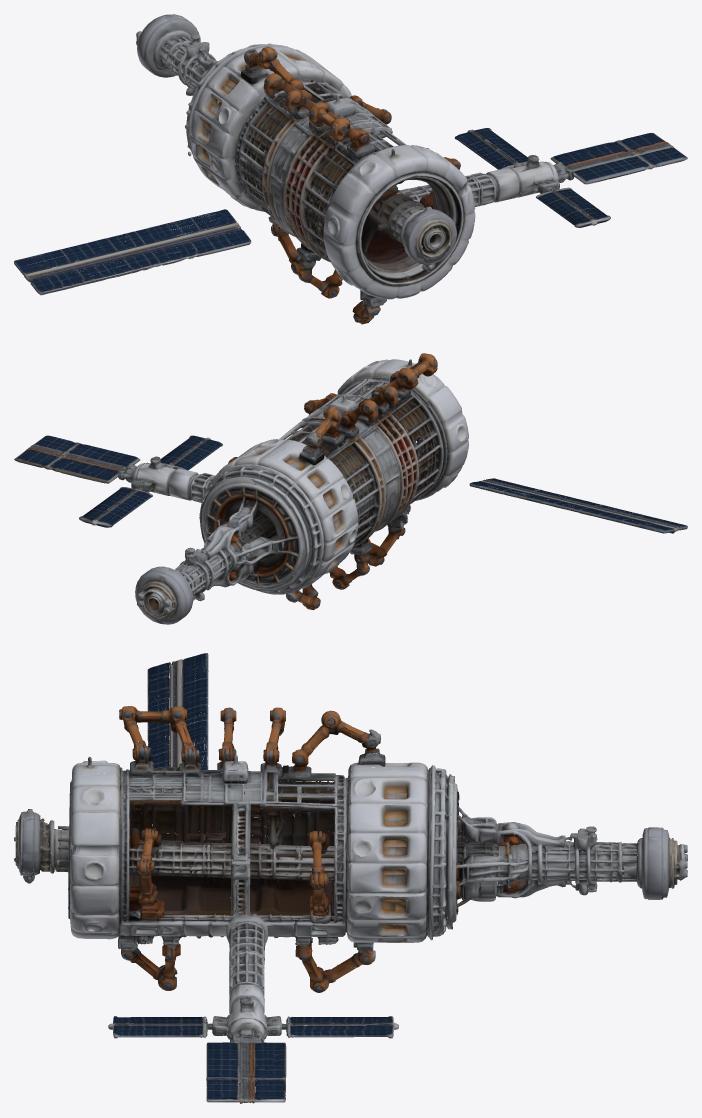
File: station_modular_opt.glb
3 renders of one model, top to bottom at view 1: azimuth 30°, elevation 25°; view 2: azimuth 150°, elevation 25°; view 3: azimuth 270°, elevation 25°, orthographic. The views are drawn at different scales.
Parts seen in each view (by area): view 1: world; view 2: world; view 3: world.
Part boxes in pixels (x1,y1,x2,y2): world: (14,14,687,324); world: (14,353,687,624); world: (14,653,687,1103).
Size of the model in its own units: 1 by 0.3259 by 0.7529.
1 material, 1 textured.
